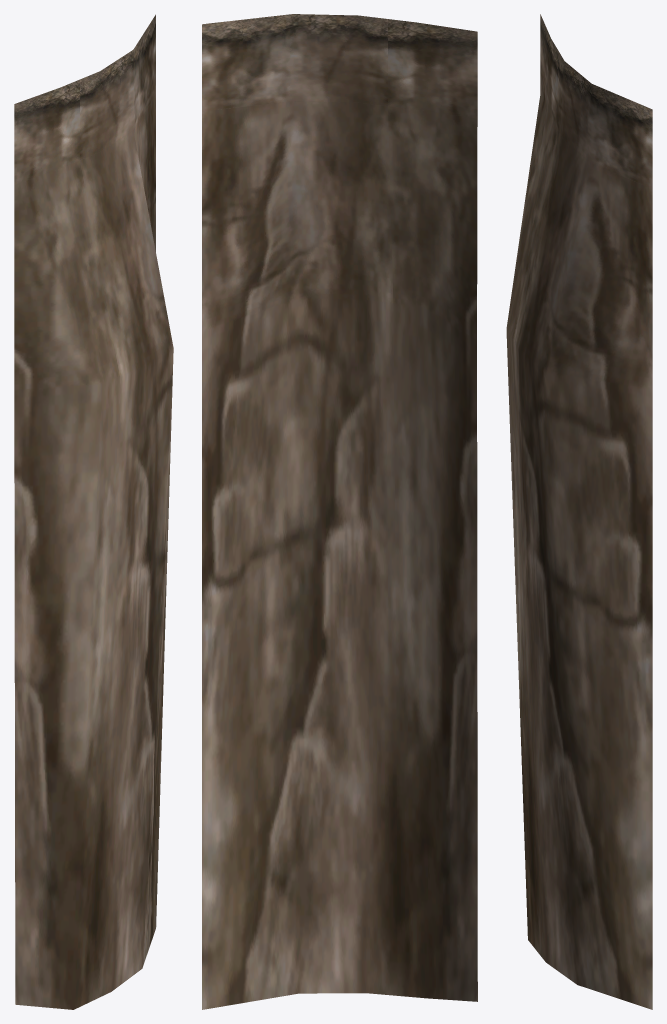
File: OVERHILL_A_01_LINE52.fbx
The picture shows the model from 3 angles, left to right: view 1: azimuth 30°, elevation 25°; view 2: azimuth 150°, elevation 25°; view 3: azimuth 270°, elevation 25°; orthographic projection. The views are drawn at different scales.
Parts seen in each view (by area): view 1: OVERHILL_A_01_LINE52; view 2: OVERHILL_A_01_LINE52; view 3: OVERHILL_A_01_LINE52.
Boxes of the visible parts, x1,y1,x2,y2 form: OVERHILL_A_01_LINE52: (14,14,173,1009); OVERHILL_A_01_LINE52: (202,14,477,1009); OVERHILL_A_01_LINE52: (506,14,652,1009).
Bounding box in the file's own units: 33993 × 149570 × 21977.
2 materials, 2 textured.
